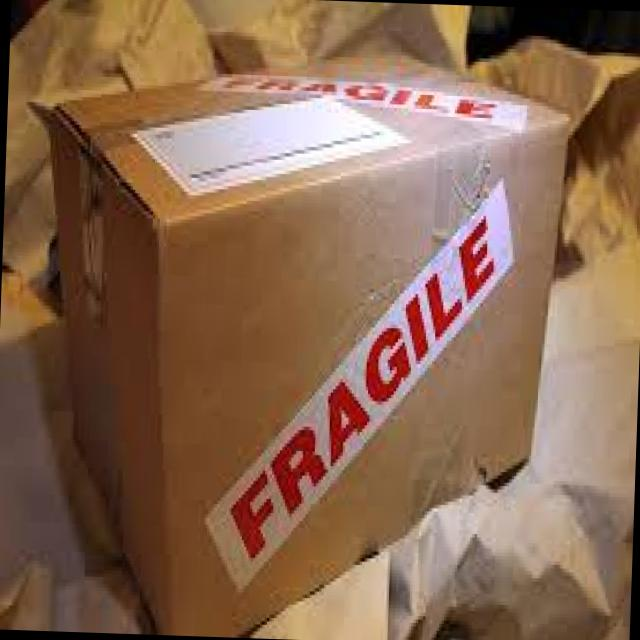box: (49, 53, 572, 640)
tear: (468, 465, 491, 490)
